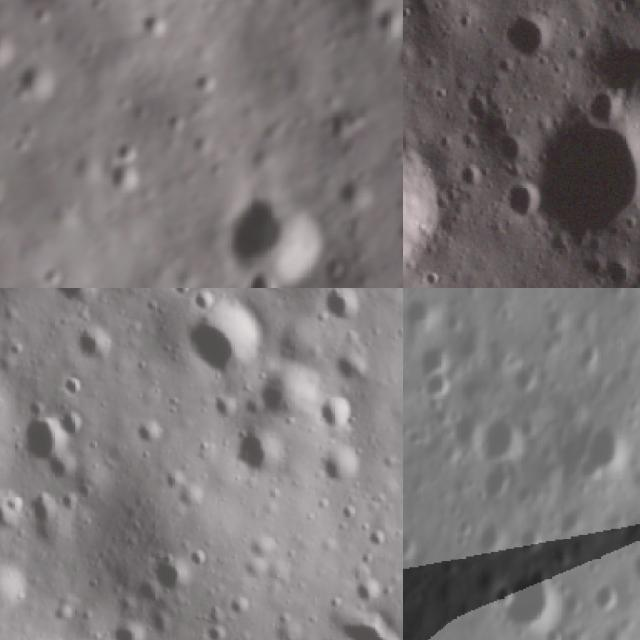crater: (519, 98, 640, 261), (222, 190, 333, 284), (177, 294, 260, 375), (403, 148, 445, 287), (493, 563, 562, 635), (572, 417, 633, 488), (589, 29, 640, 110), (245, 362, 311, 418), (499, 1, 554, 65), (12, 414, 64, 467), (476, 409, 524, 466), (438, 409, 484, 464), (319, 94, 370, 143), (234, 428, 283, 479), (14, 57, 64, 103), (102, 158, 153, 202), (145, 555, 197, 597), (582, 83, 628, 129), (317, 442, 363, 488), (68, 318, 114, 363), (500, 176, 542, 224), (0, 565, 35, 621), (491, 133, 534, 173), (403, 295, 441, 340), (101, 133, 148, 168), (136, 5, 176, 45), (479, 464, 516, 506), (411, 342, 449, 382), (316, 393, 355, 431), (338, 171, 374, 212), (321, 288, 364, 321), (333, 620, 403, 640), (329, 352, 370, 386), (42, 288, 102, 310), (590, 580, 624, 618), (237, 262, 286, 288), (458, 90, 492, 126), (421, 371, 457, 405), (187, 64, 222, 98), (36, 255, 72, 288), (0, 25, 22, 76), (45, 453, 81, 484), (0, 487, 21, 539), (54, 406, 88, 438), (353, 573, 384, 608), (377, 1, 403, 39), (102, 619, 148, 640), (458, 163, 486, 197), (488, 583, 514, 618), (591, 626, 631, 640), (190, 288, 214, 310), (629, 549, 640, 588), (492, 280, 528, 288)
